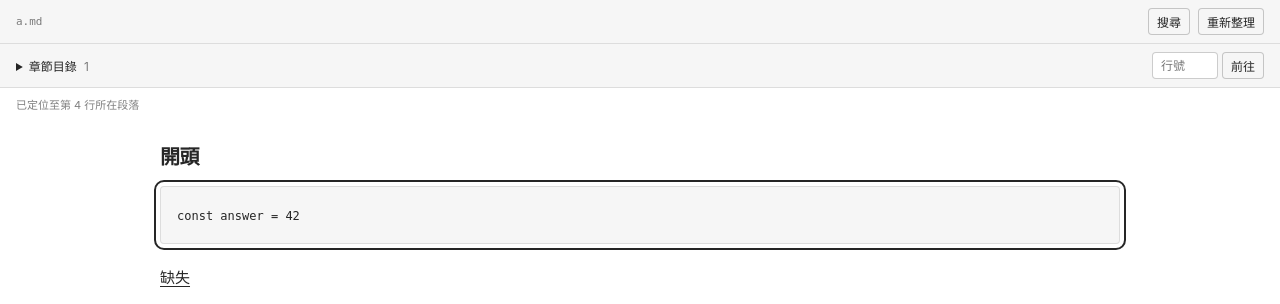
Test case: 外部行號定位到程式碼所在區塊，缺失章節明示且不改應用網址
Expected: the text "已定位至第 4 行所在段落" is shown, [16,98,139,112]
Click the link "缺失": (175, 278) [160,268,190,287]
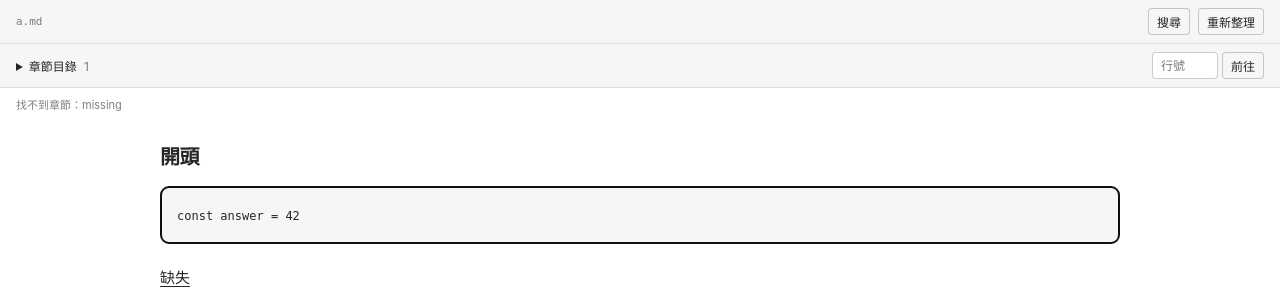
Expected: the message reads "找不到章節：missing", [16,98,122,112]
